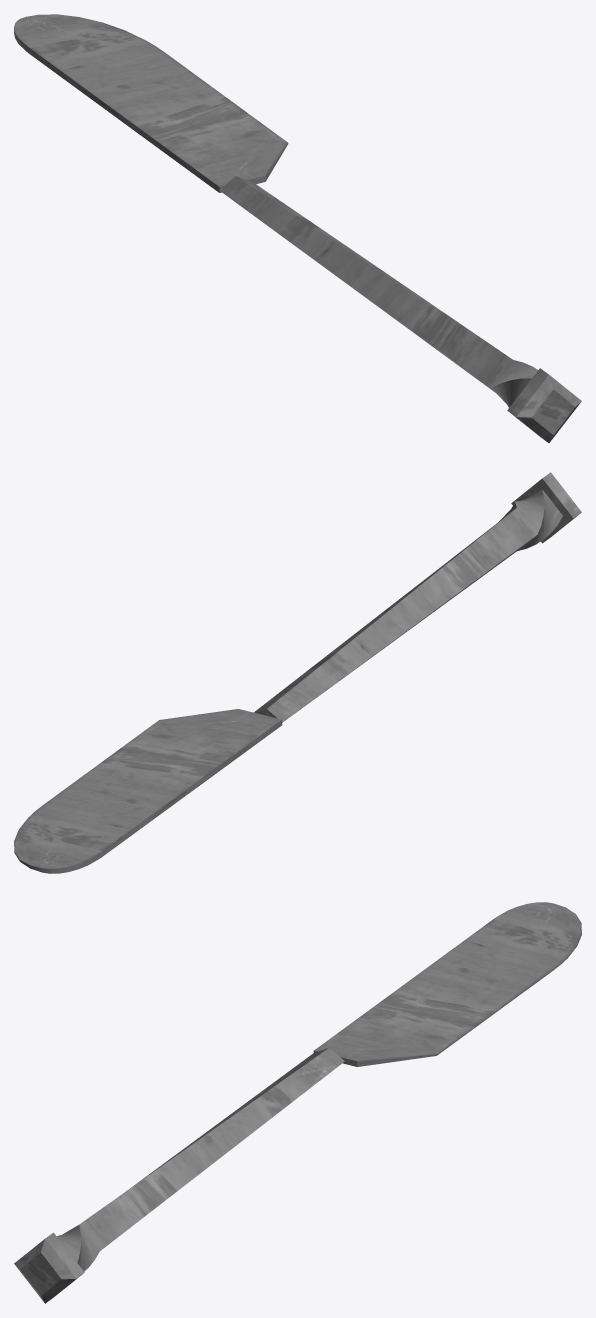
The model's file is kitchen_knife.glb.
3 renders of one model, top to bottom at view 1: azimuth 30°, elevation 25°; view 2: azimuth 150°, elevation 25°; view 3: azimuth 330°, elevation 25°, orthographic. The views are drawn at different scales.
Visible parts, largest first — view 1: Object_48; view 2: Object_48; view 3: Object_48.
Boxes of the visible parts, box(x1,y1,x2,y2) form: Object_48: box(14, 14, 581, 442); Object_48: box(14, 472, 581, 873); Object_48: box(14, 902, 581, 1303).
Size of the model in its own units: 0.0354 by 0.0213 by 0.2996.
Materials: 1 (1 with a texture image).
